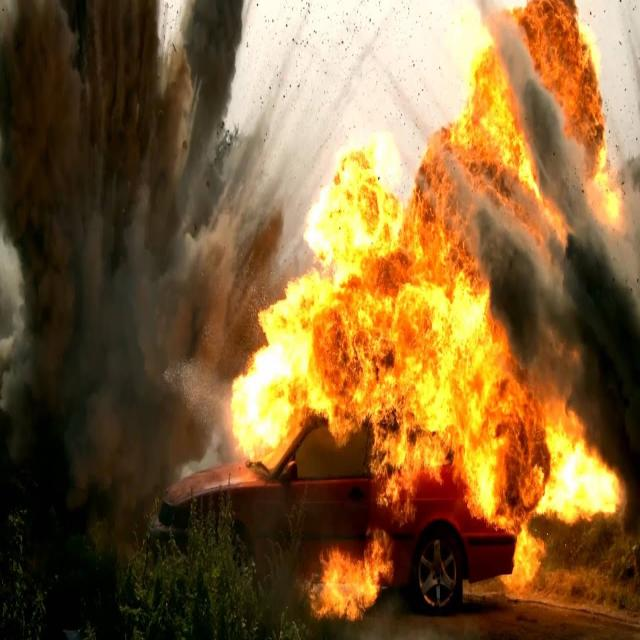fire: (197, 68, 611, 615)
